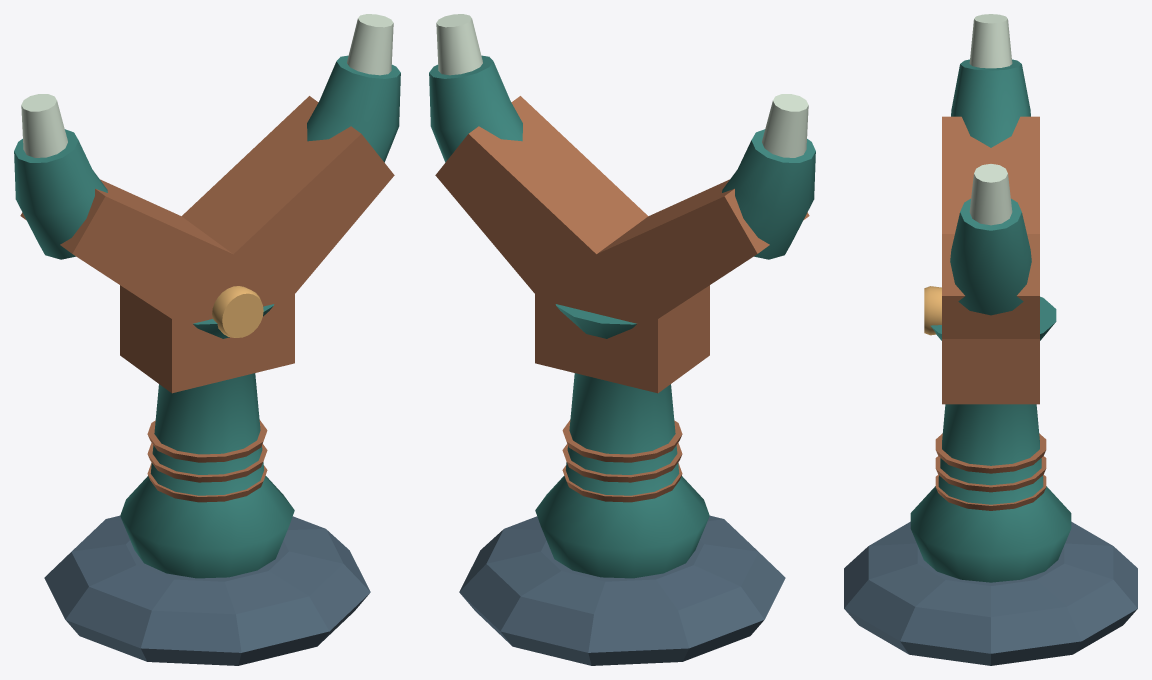
The picture shows the model from 3 angles, left to right: view 1: azimuth 30°, elevation 25°; view 2: azimuth 150°, elevation 25°; view 3: azimuth 270°, elevation 25°; orthographic projection. The views are drawn at different scales.
Visible parts, largest first — view 1: PR047 enamel and hardware; view 2: PR047 enamel and hardware; view 3: PR047 enamel and hardware.
Part boxes in pixels (box(x1,y1,x2,y2)): PR047 enamel and hardware: box(14, 14, 400, 665); PR047 enamel and hardware: box(429, 14, 815, 665); PR047 enamel and hardware: box(844, 14, 1137, 665).
Bounding box in the file's own units: 0.797 × 1.1 × 0.5706.
